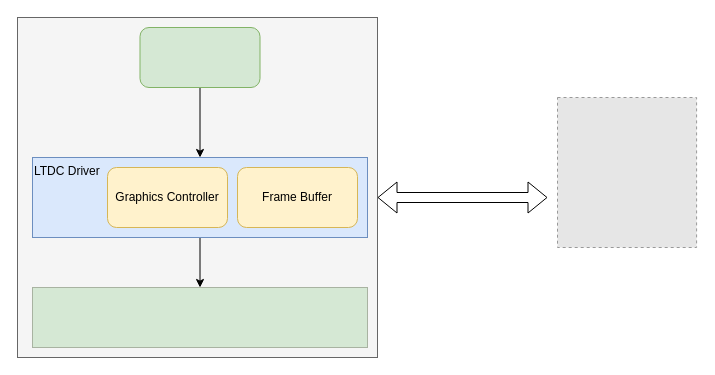
This 715x375 diagram has some shape labels left out. Grey dashed boxes stand in for pictures. Each missing label, with the centre of its shape:
"MCU" goes at point 200,317.
"TouchGFX" goes at point 199,57.
